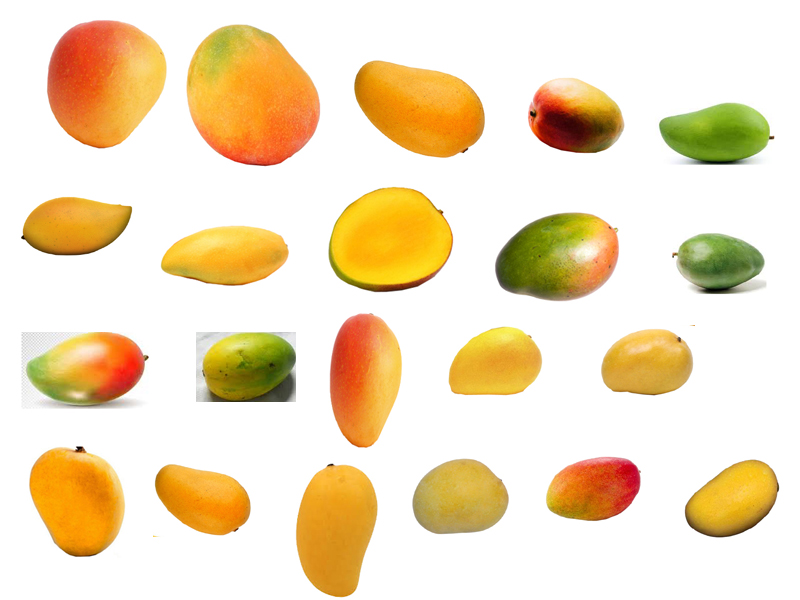mango: (184, 21, 325, 173), (41, 14, 170, 152), (345, 54, 490, 160), (327, 180, 456, 294), (489, 208, 624, 301), (289, 461, 381, 597), (27, 443, 127, 562), (325, 307, 407, 452), (22, 334, 149, 410), (159, 224, 292, 289), (441, 318, 544, 399), (408, 456, 511, 536), (591, 324, 697, 400), (525, 74, 624, 155), (684, 457, 778, 540), (151, 461, 249, 540), (542, 449, 641, 524), (656, 103, 777, 162), (15, 196, 132, 257), (666, 228, 766, 297), (199, 333, 294, 404)
